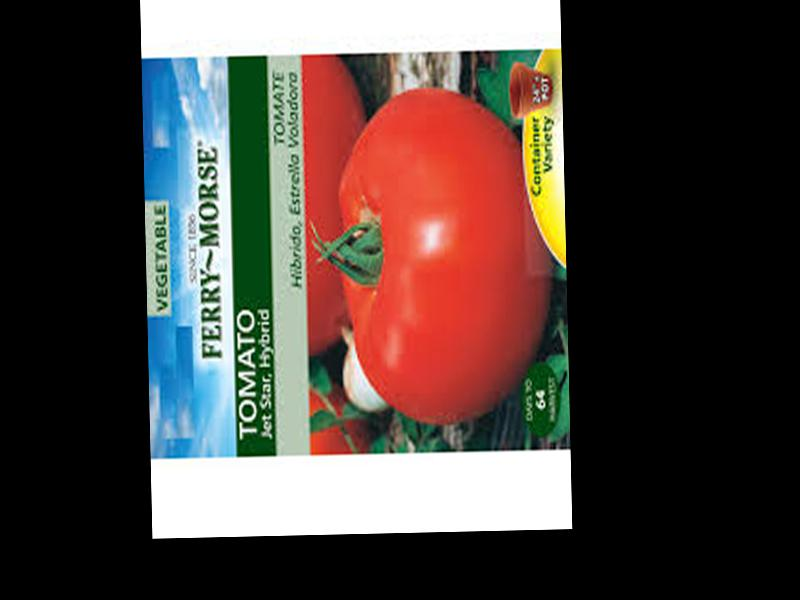Tomato: (336, 88, 555, 426)
